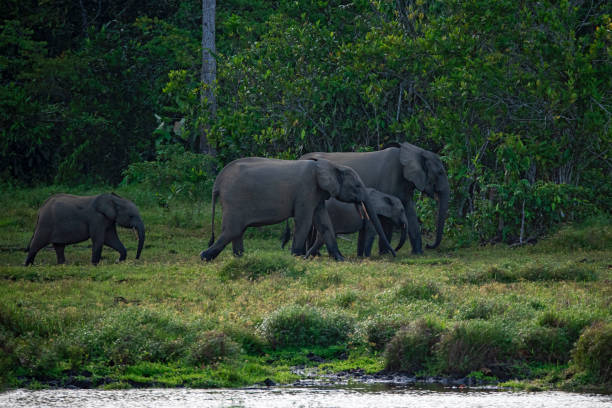africanelephant: (317, 167, 374, 209)
